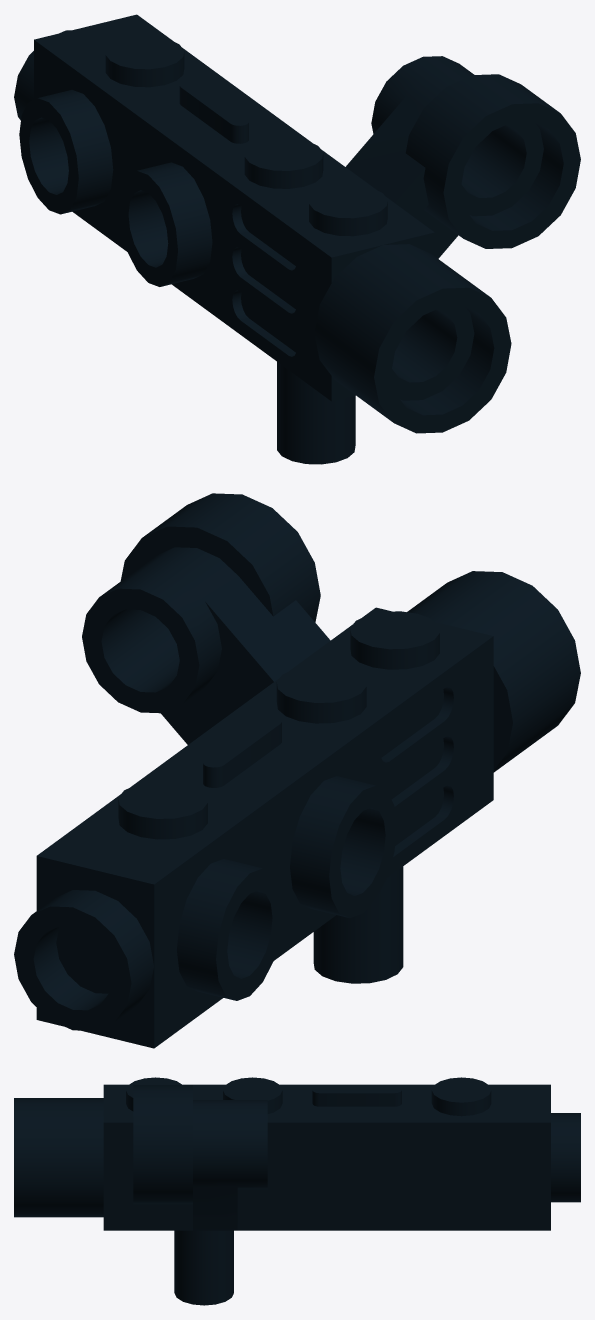
File: Camera.dae
3 views of the same model, one above another, from view 1: azimuth 30°, elevation 25°; view 2: azimuth 150°, elevation 25°; view 3: azimuth 270°, elevation 25° (orthographic). The views are drawn at different scales.
Size of the model in its own units: 35.32 by 76 by 38.
